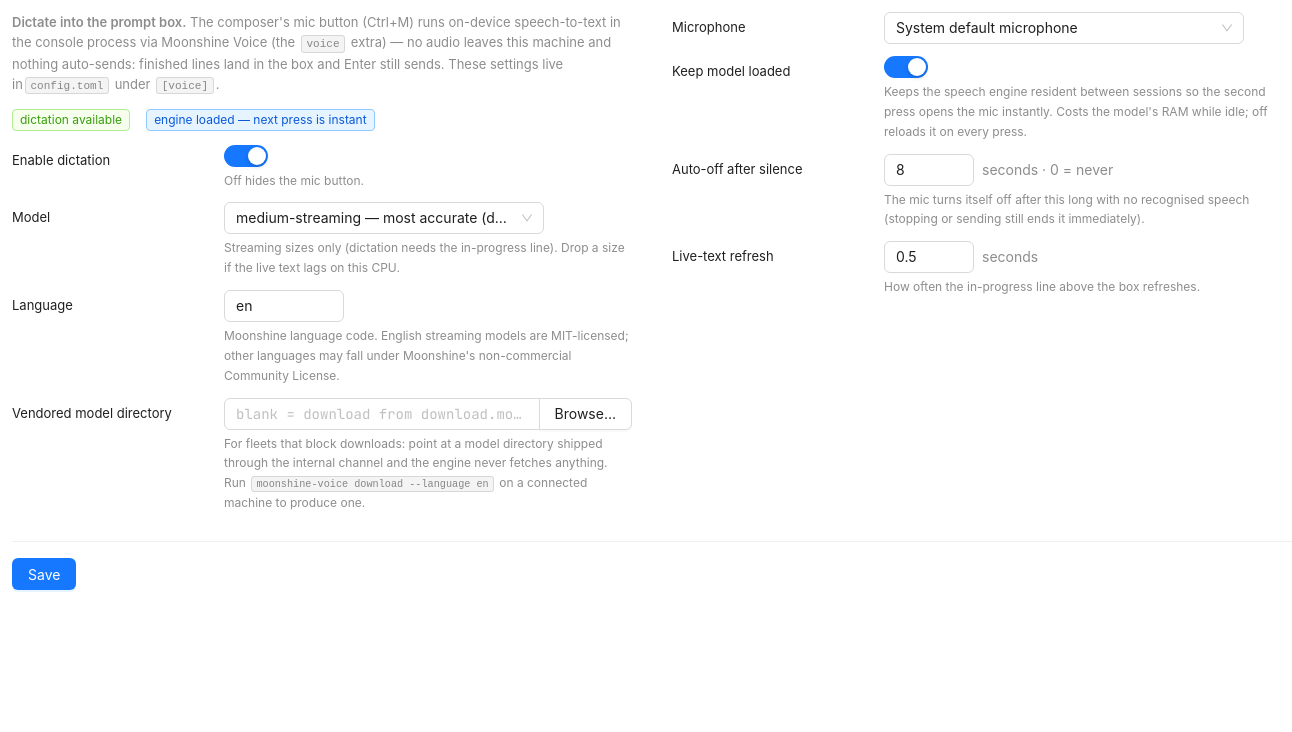
Settings → Voice › saves the edited section without the read-only fields and adopts the result
Expected: the text "engine loaded — next press is instant" is shown, left=146, top=109, right=375, bottom=131
Click the switch named "Keep model loaded".
click(906, 67)  # box left=884, top=56, right=928, bottom=78
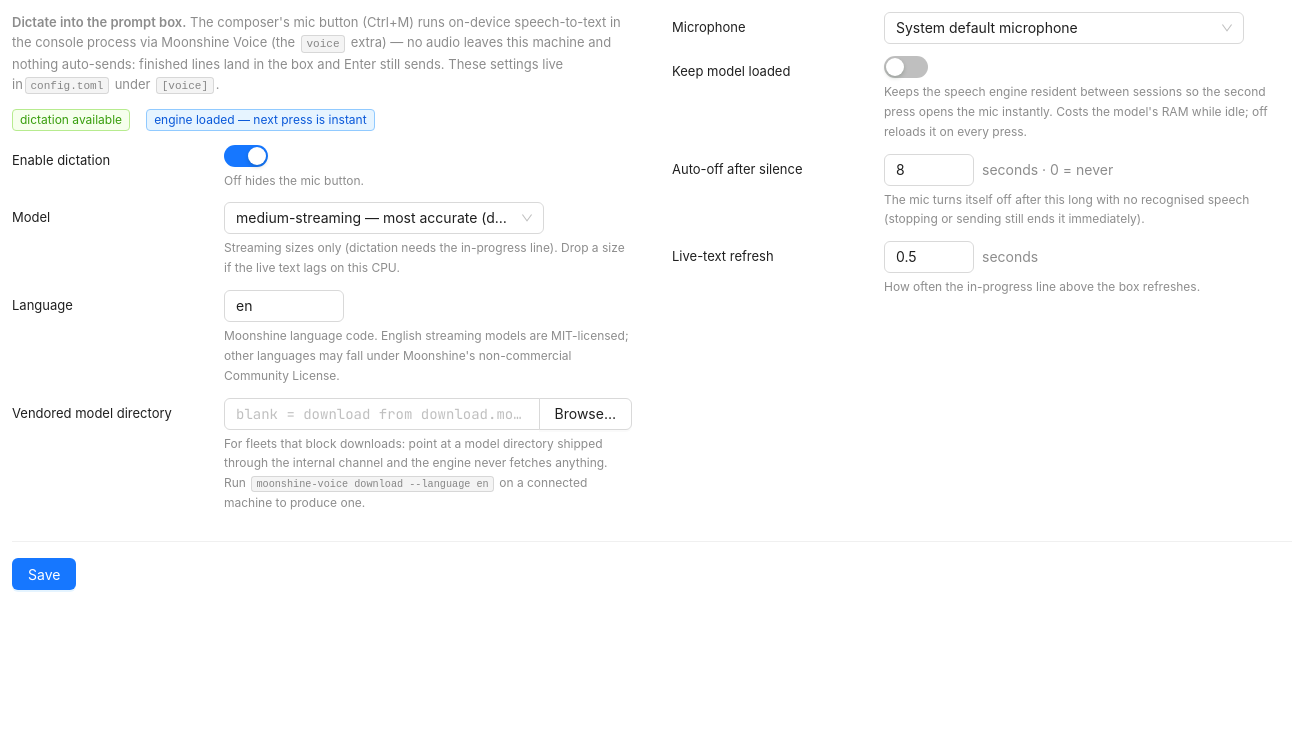
Replace the text in the number field named "Silence timeout" with "15" at (929, 170), box left=885, top=154, right=973, bottom=184
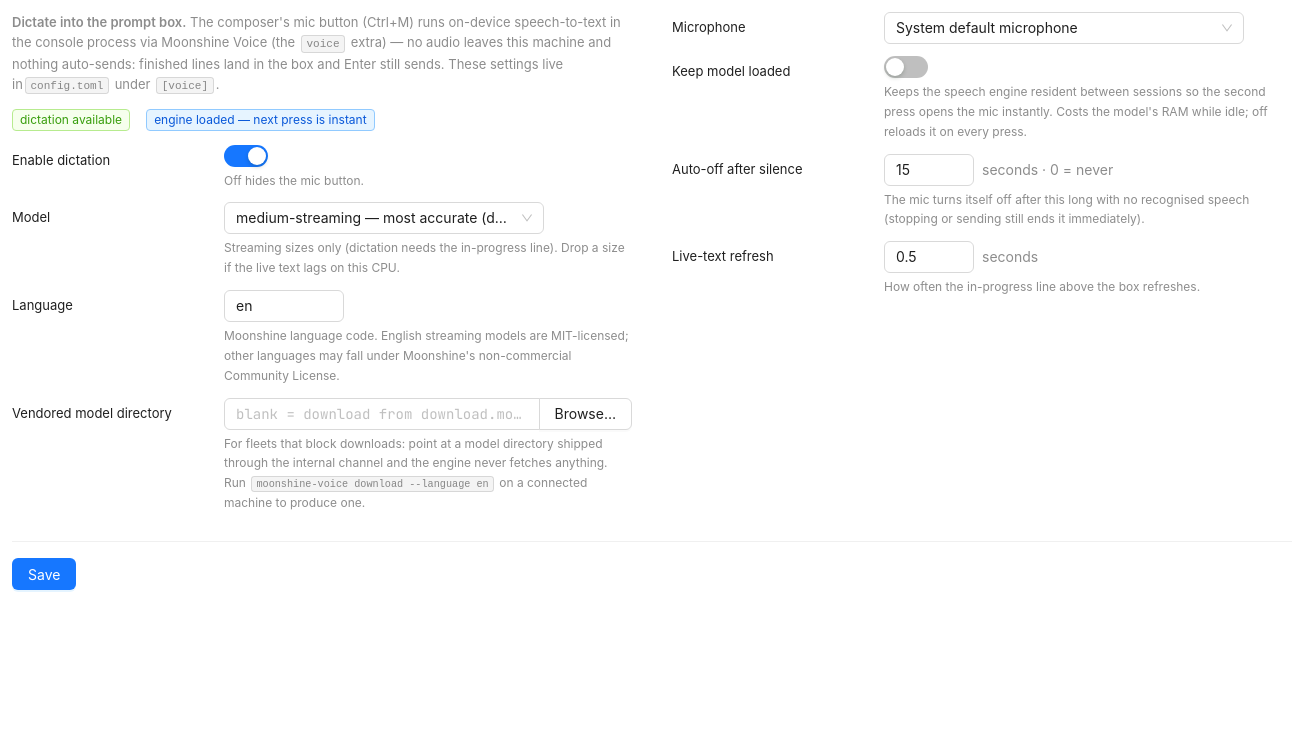
Click the button "Browse…".
click(585, 414)  # box left=538, top=398, right=632, bottom=430
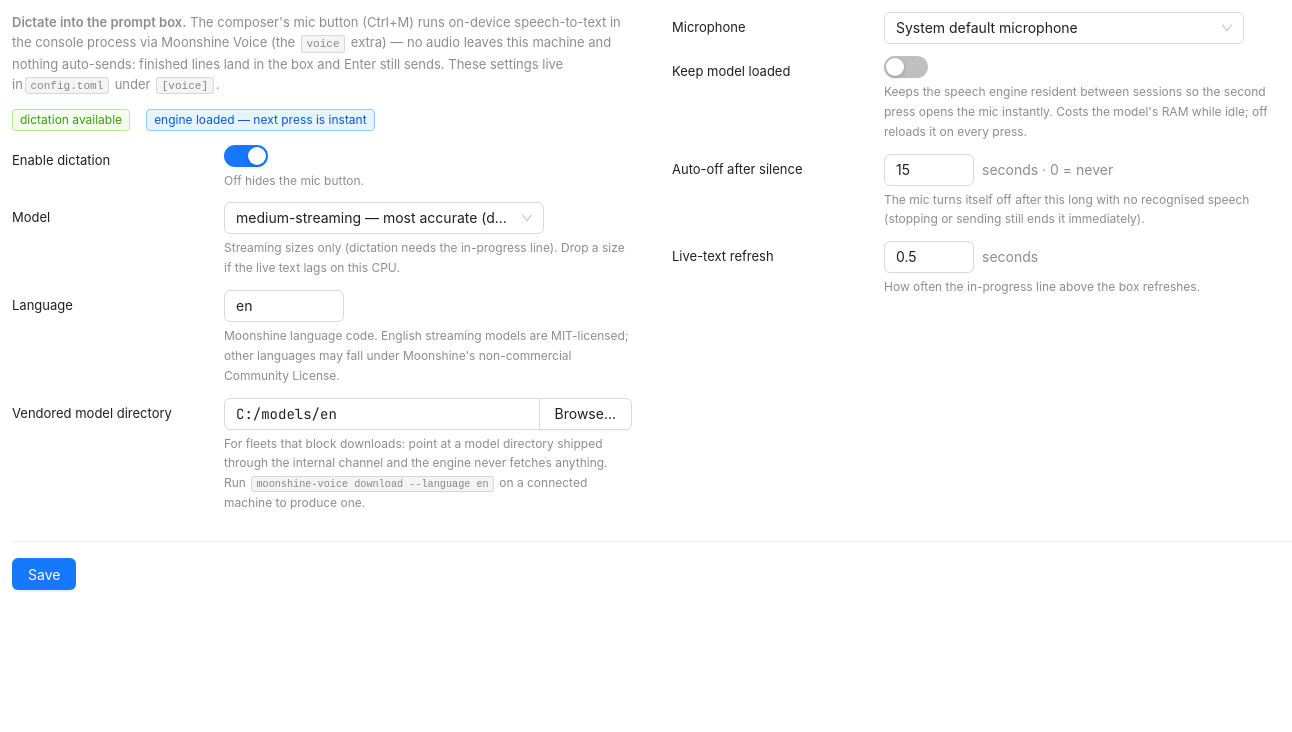
Result: the field named "Vendored model directory" holds "C:/models/en" at left=224, top=398, right=540, bottom=430
Click the button "Save".
click(44, 574)  # box left=12, top=558, right=76, bottom=590
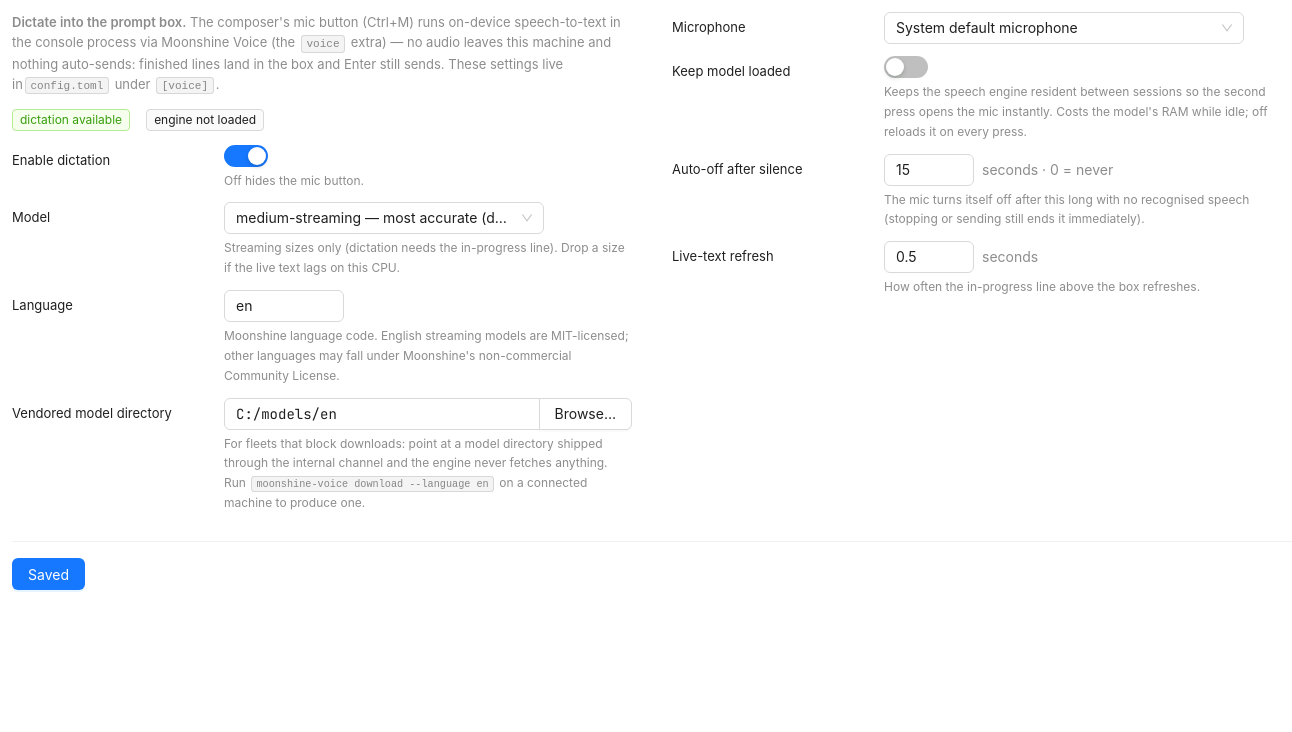
Result: the text "engine not loaded" is shown at left=146, top=109, right=264, bottom=131
